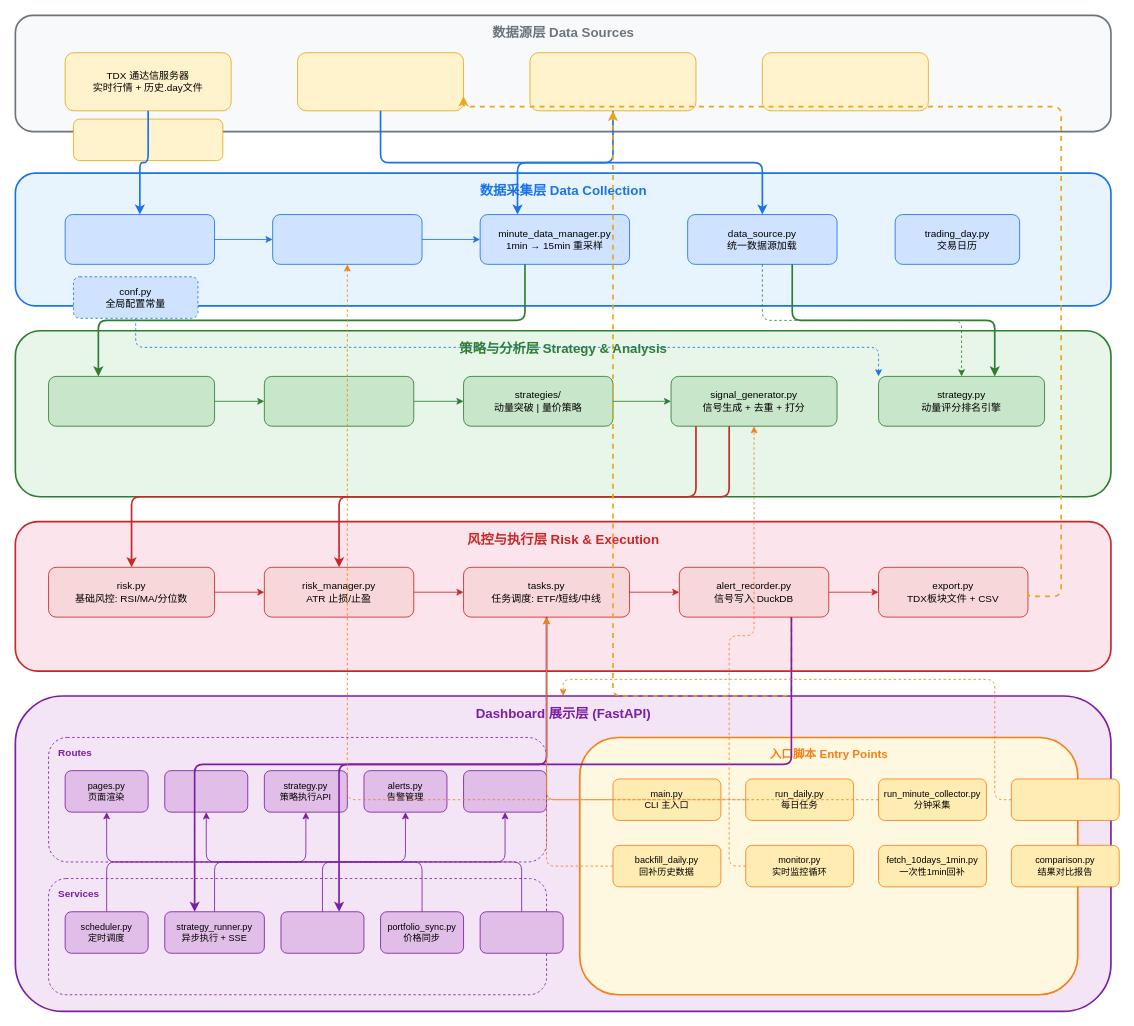
The diagram is 1134 pixels wide and 1026 high, and some of its shapes have lost their labels. The box of each missing label's shape, as (x1, y1, x2, y2) in pixels:
alert_engine.py 告警检测: (280, 911, 364, 953)
CSV 缓存 data/etf/*.csv: (297, 52, 464, 111)
DuckDB minute_bars / alerts: (529, 52, 696, 111)
market.py 市场状态/调度: (463, 770, 547, 812)
market_analyzer.py 市场状态: 牛/熊/震荡: (48, 376, 215, 426)
minute_collector.py 1分钟K线采集: (272, 214, 422, 264)
portfolio.py 账户/持仓CRUD: (164, 770, 248, 812)
run_dashboard.py 启动Dashboard: (1011, 778, 1119, 820)
SQLite 账户 / 持仓 / 计划: (762, 52, 928, 111)
sse_manager.py SSE实时推送: (479, 911, 563, 953)
strategy_selector.py 策略选择器: (264, 376, 414, 426)
tdx.py 通达信协议解析: (64, 214, 215, 264)
股票池配置 ETF_POOL / STOCK_POOL: (73, 118, 223, 161)
